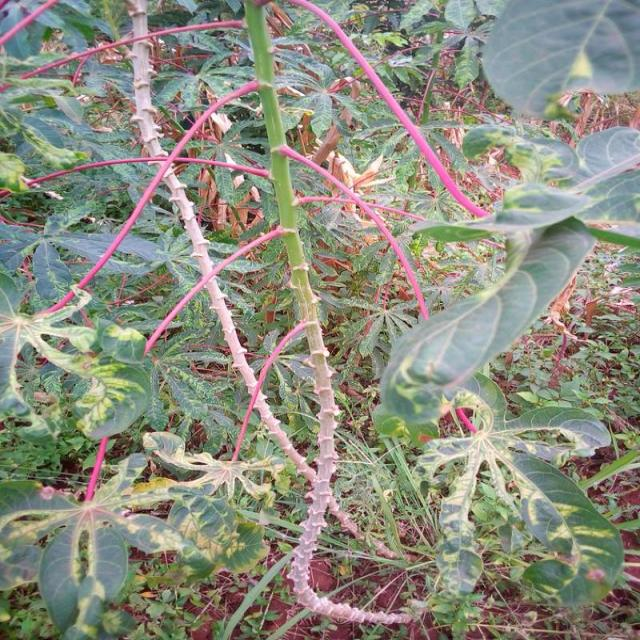cassava leaf: (377, 181, 598, 443), (414, 371, 626, 610), (481, 0, 640, 122)
